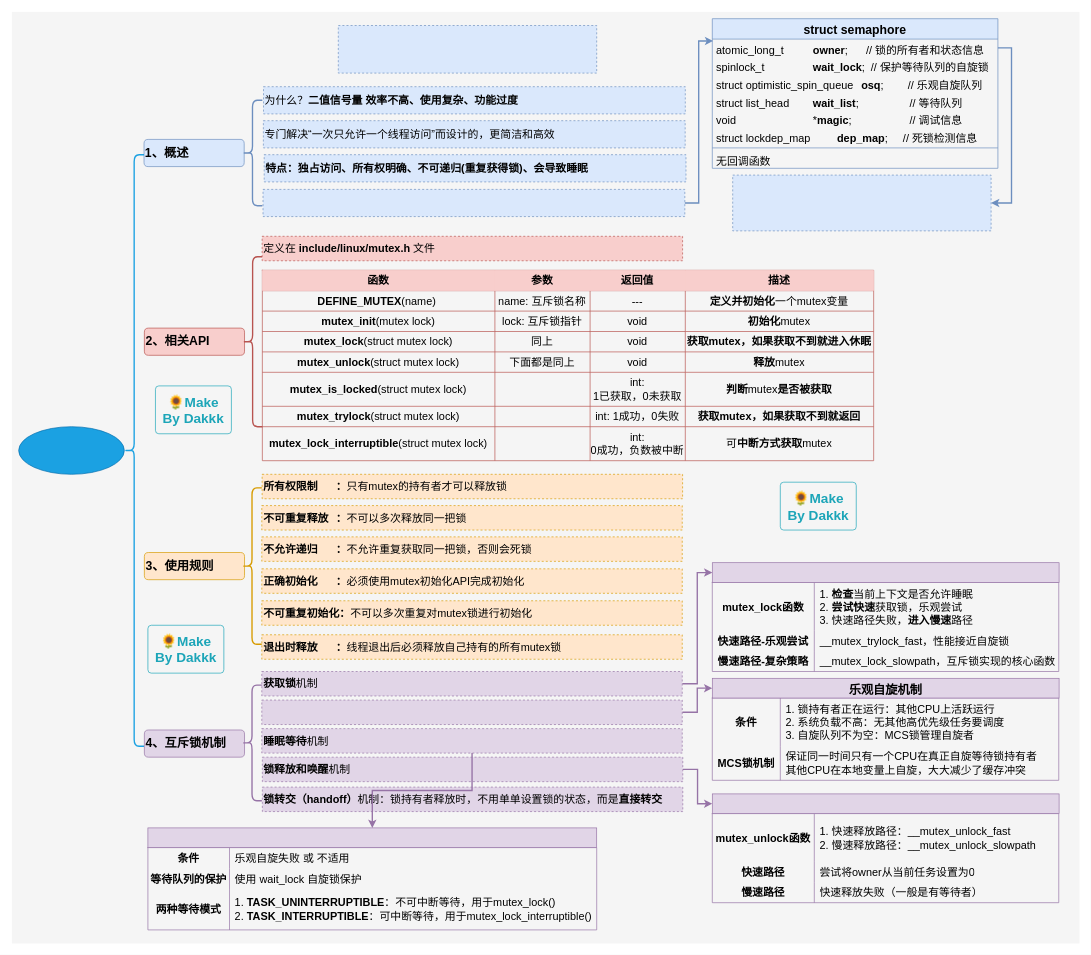
Some shapes in this 1091 by 955 pixel diagram are drawn without their labels. Each missing label, with the centre of its shape:
"乐观自旋 机制" goes at (471,712).
"互斥锁及机制" goes at (71,450).
"互斥锁采用 混合策略： 1. 轻度竞争 --> 乐观自旋 2. 重度竞争 --> 睡眠等待" goes at (467,49).
"使用 mutex结构体 来表示，定义在 include/linux/mutex.h 中" goes at (473,203).
"睡眠等待机制" goes at (372,837).
"获取锁机制" goes at (885,572).
"锁释放和唤醒机制" goes at (885,803).
"高位部分 ： 存储锁持有者的task_struct指针 低3位 ： 存储状态标志位 值为0 ： 表示锁未被持有 非零值 ： 锁被持有，同时包含持有者和状态信息" goes at (861,202).
